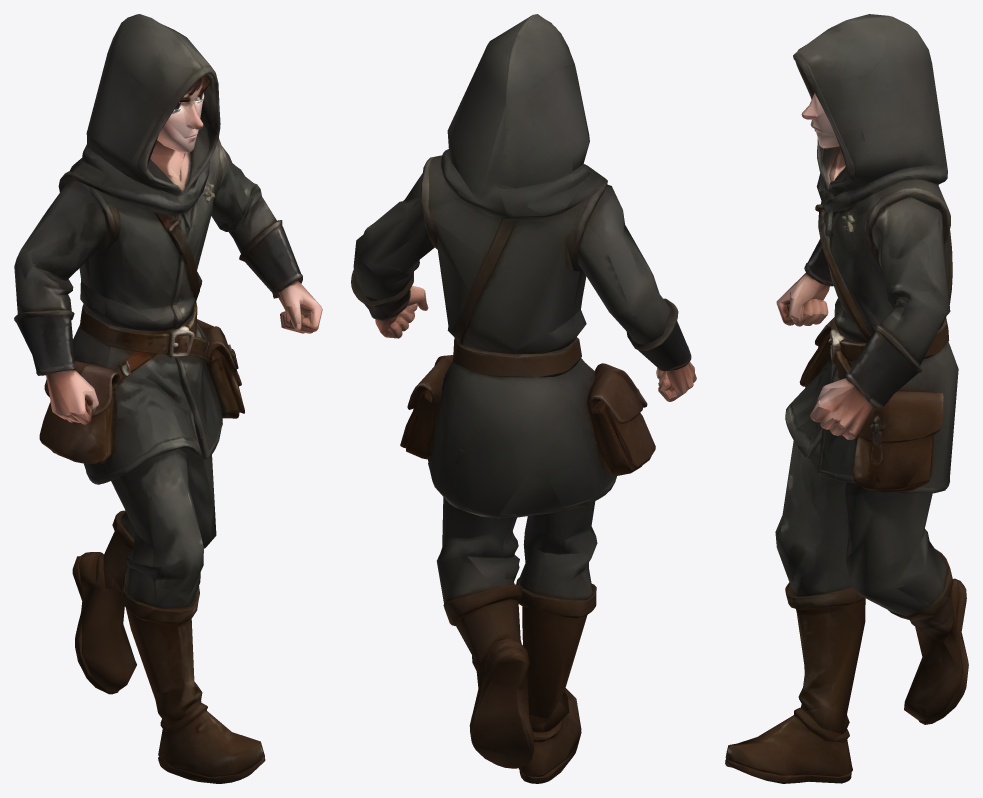
The model's file is bot-runner.glb.
3 renders of one model, left to right at view 1: azimuth 30°, elevation 25°; view 2: azimuth 150°, elevation 25°; view 3: azimuth 270°, elevation 25°, orthographic. The views are drawn at different scales.
Parts seen in each view (by area): view 1: model; view 2: model; view 3: model.
Part boxes in pixels (left/top/right/bottom): model: left=14, top=14, right=322, bottom=783; model: left=351, top=14, right=696, bottom=783; model: left=725, top=14, right=968, bottom=783.
Size of the model in its own units: 0.786 by 1.89 by 0.5498.
1 material, 1 textured.
